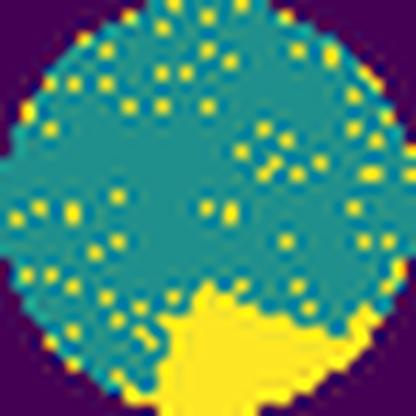Edge-Loc: (108, 273, 394, 416)
